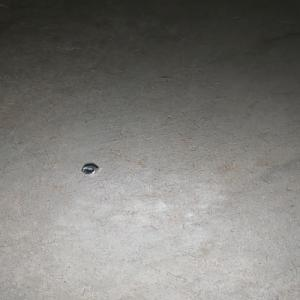Nut: (81, 164, 99, 175)
